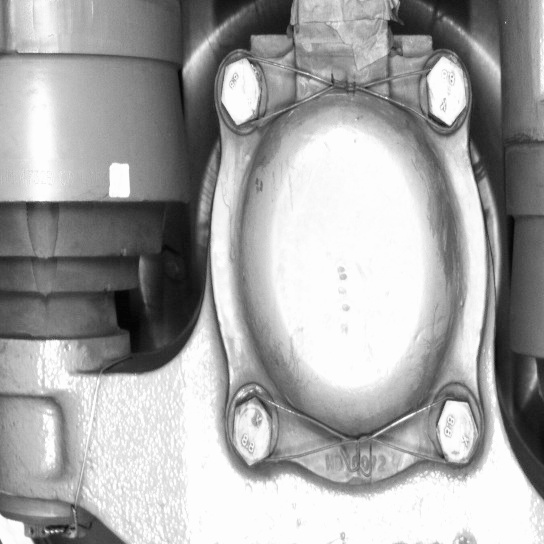IronWire: (213, 48, 471, 132), (225, 390, 483, 472)
Screw: (225, 390, 279, 471), (213, 52, 266, 132), (420, 48, 471, 131), (430, 393, 482, 470)
